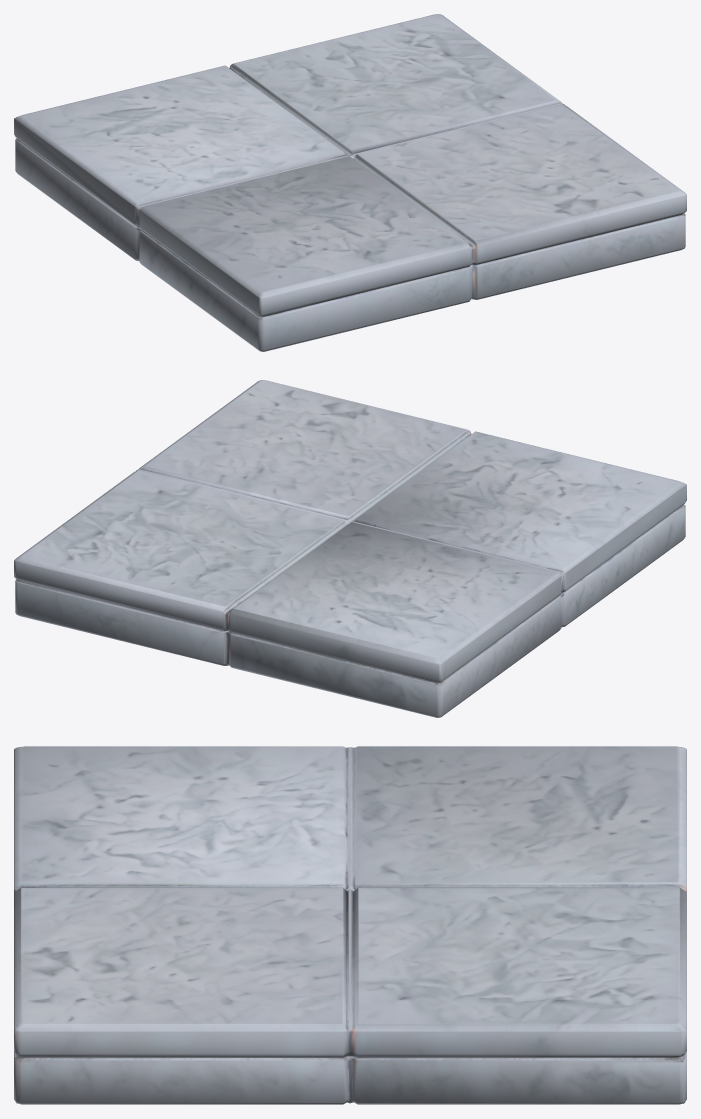
The model's file is tripo_convert_0edb824d-f99d-4b80-bd9f-5600ad2fbcd2.fbx.
The picture shows the model from 3 angles, top to bottom: view 1: azimuth 30°, elevation 25°; view 2: azimuth 150°, elevation 25°; view 3: azimuth 270°, elevation 25°; orthographic projection. The views are drawn at different scales.
Visible parts, largest first — view 1: tripo_node_0edb824d; view 2: tripo_node_0edb824d; view 3: tripo_node_0edb824d.
Boxes of the visible parts, x1=… form: tripo_node_0edb824d: x1=14, y1=14, x2=686, y2=351; tripo_node_0edb824d: x1=14, y1=380, x2=686, y2=717; tripo_node_0edb824d: x1=14, y1=746, x2=686, y2=1104.
Size of the model in its own units: 1 by 0.1331 by 1.
1 material, 1 textured.
